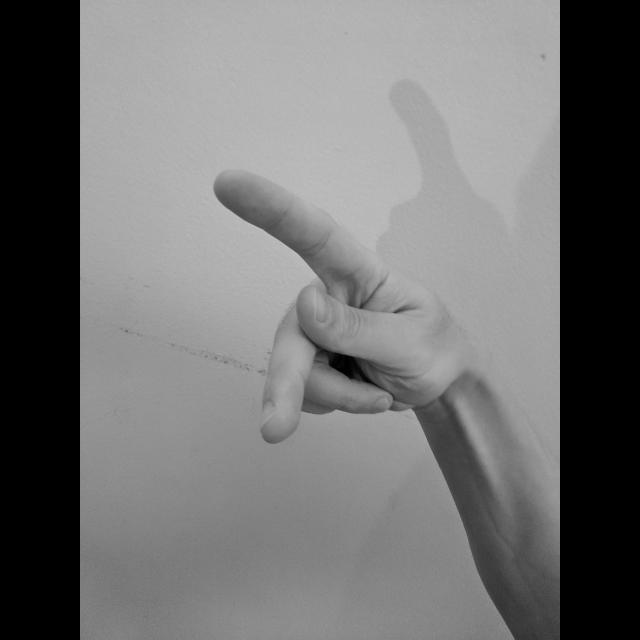P: (207, 164, 491, 450)
